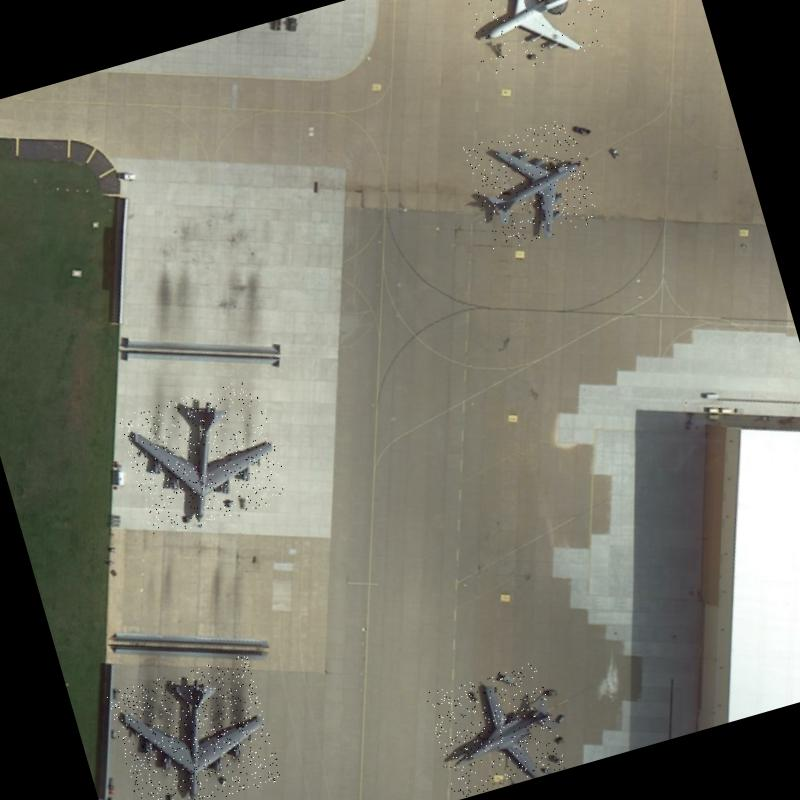A10: (424, 660, 566, 800)
A14: (462, 116, 601, 253)
A7: (454, 0, 612, 79)
A8: (116, 376, 291, 539), (105, 653, 283, 800)
